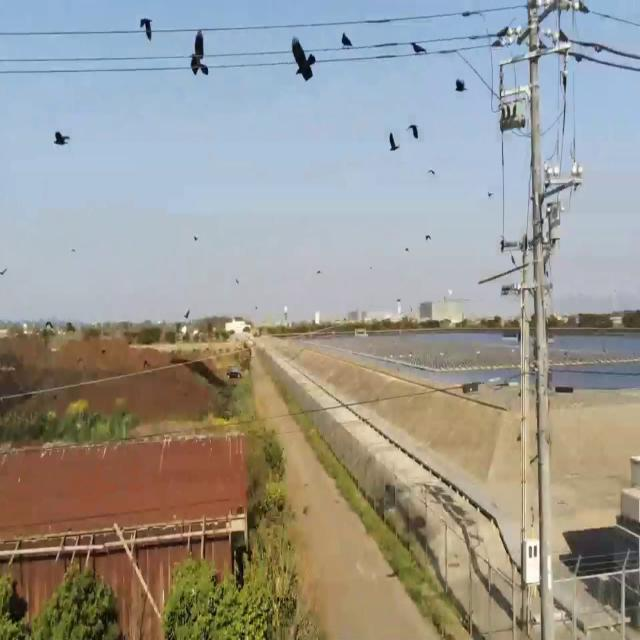bird: (291, 28, 316, 92), (189, 22, 209, 88), (54, 122, 69, 152), (141, 8, 152, 47), (411, 34, 424, 62), (341, 27, 352, 58), (455, 70, 466, 100), (408, 116, 419, 145), (388, 127, 398, 157), (0, 261, 7, 282), (512, 100, 516, 118)
